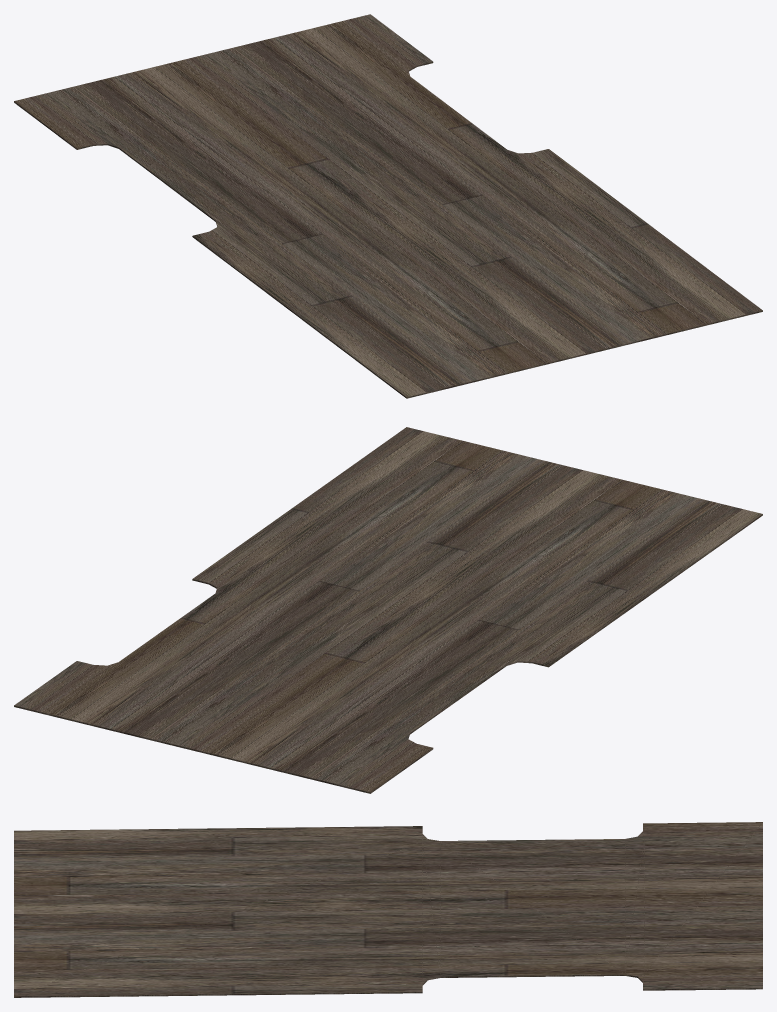
File: flooring-one.glb
3 renders of one model, top to bottom at view 1: azimuth 30°, elevation 25°; view 2: azimuth 150°, elevation 25°; view 3: azimuth 270°, elevation 25°, orthographic. The views are drawn at different scales.
Parts seen in each view (by area): view 1: Van_body.002; view 2: Van_body.002; view 3: Van_body.002.
Part boxes in pixels (x1,y1,x2,y2): Van_body.002: (14,14,762,398); Van_body.002: (14,427,762,793); Van_body.002: (14,822,762,997).
Size of the model in its own units: 1.71 by 0.0477 by 3.27.
Materials: 1 (1 with a texture image).
